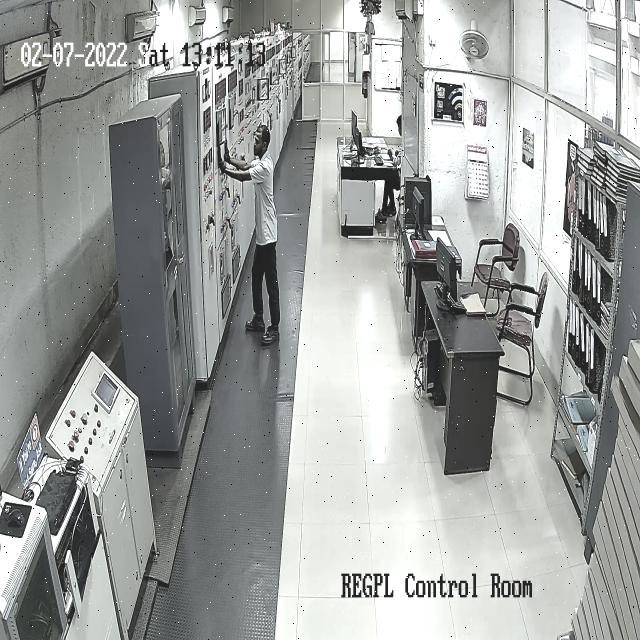Boots: (262, 328, 281, 348), (245, 316, 266, 334)
